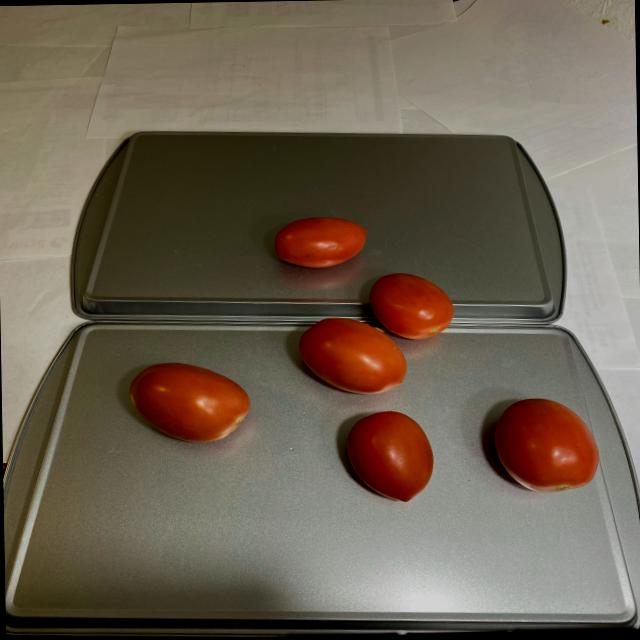tomato: (266, 212, 462, 508), (121, 358, 252, 448), (490, 393, 602, 498)
